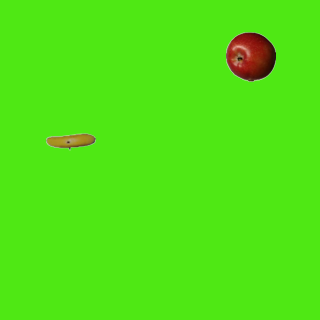Apple Braeburn: (225, 31, 275, 81)
Banana: (45, 116, 95, 166)
